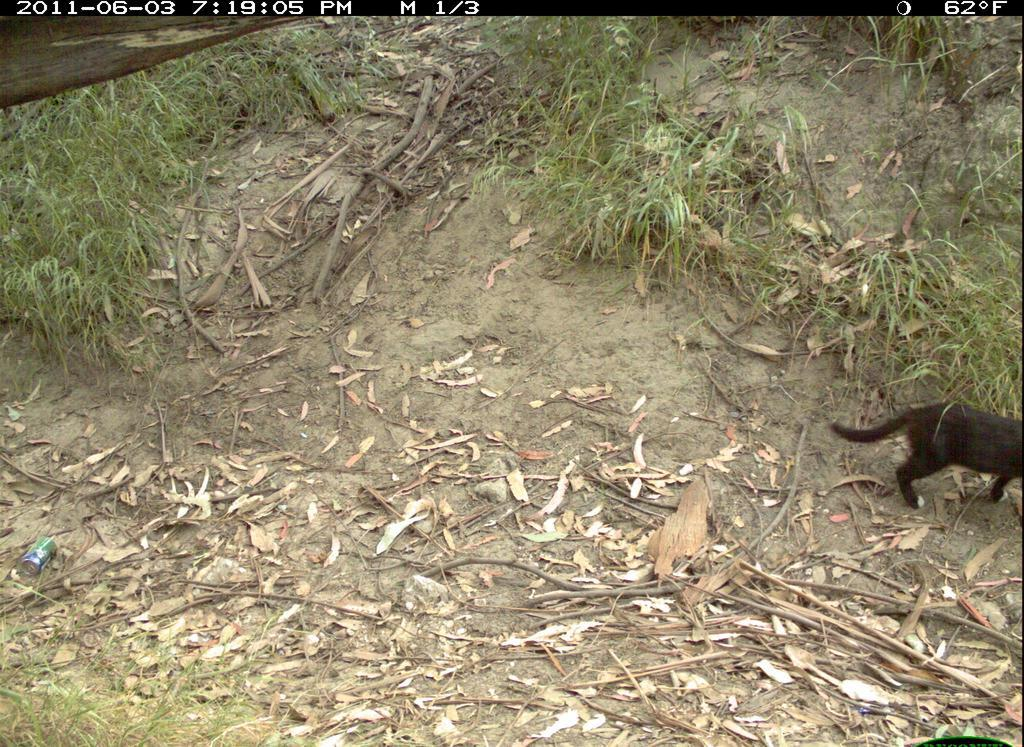cat: (827, 395, 1023, 519)
